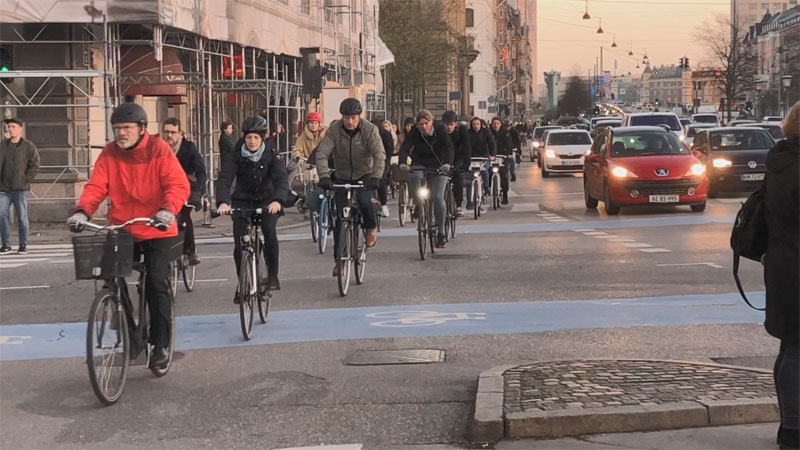commuter: (67, 103, 182, 406), (215, 115, 300, 340), (308, 97, 385, 304), (395, 108, 454, 263), (461, 117, 495, 222)
